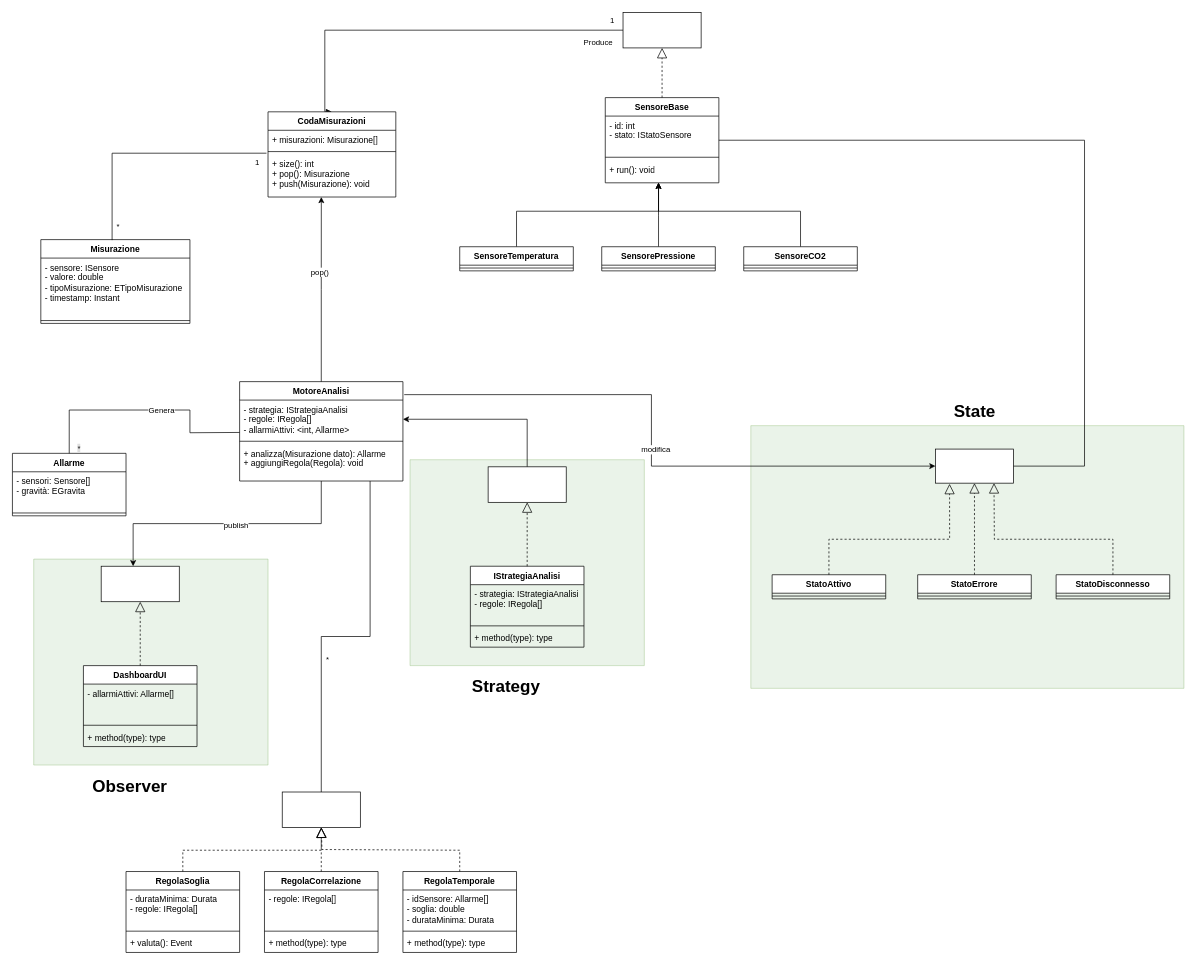
This 1196x967 diagram has some shape labels left out. The centre of each missing label's shape, as x and y in pixels:
"«interface» IAllarmeObserver" belongs at [139,584].
"«interface» IRegola" belongs at [321,809].
"«interface» ISensore" belongs at [661,30].
"«interface» IStatoSensore" belongs at [974,465].
"«interface» IStrategiaAnalisi" belongs at [526,484].
